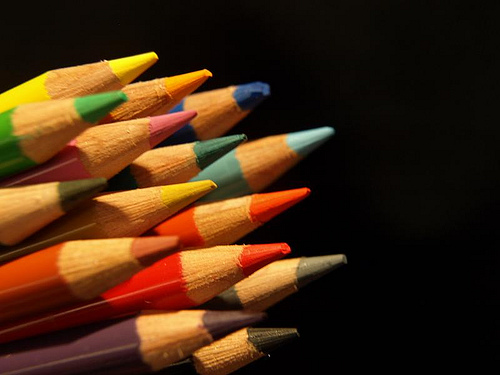pen_tip: (231, 122, 352, 184)
